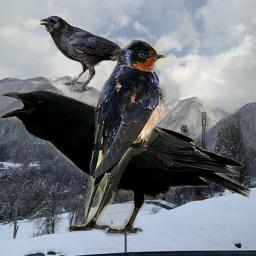Crow: (0, 90, 251, 237), (39, 15, 146, 93)
Swallow: (81, 37, 167, 221)
